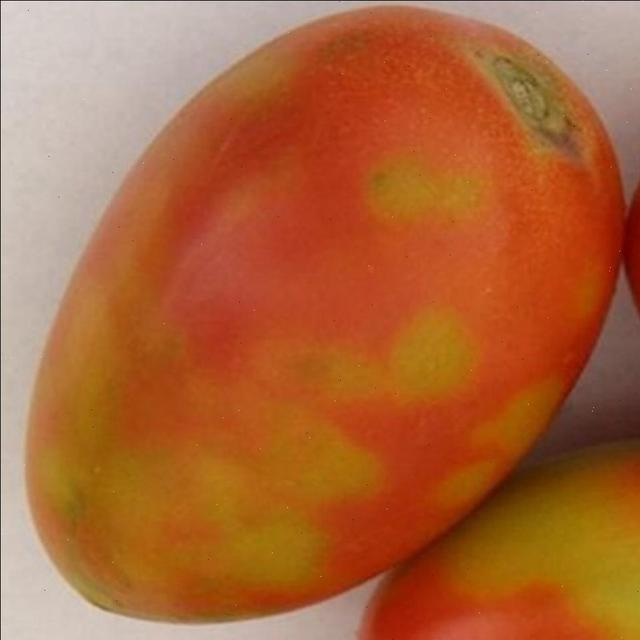Spotted wilt Virus Fruit: (20, 3, 416, 417)
